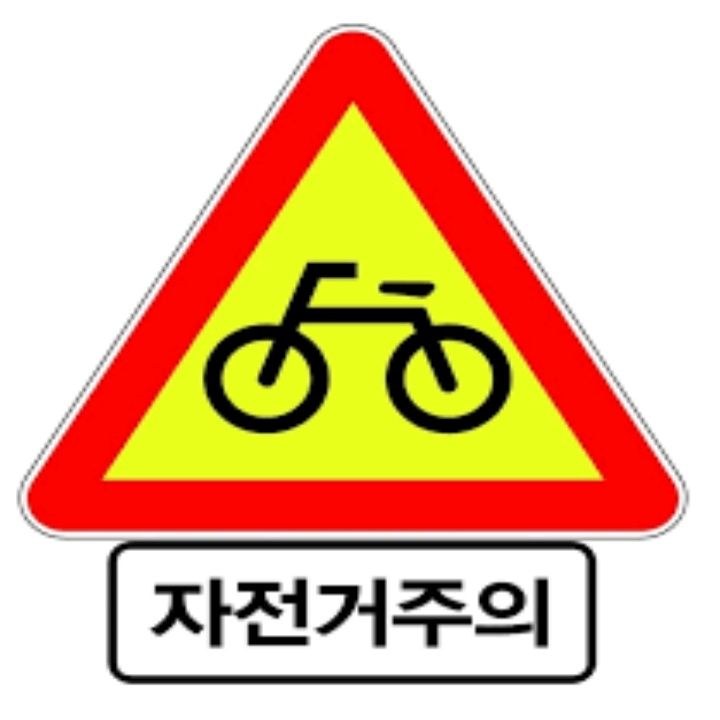bicycle: (203, 343, 535, 533)
